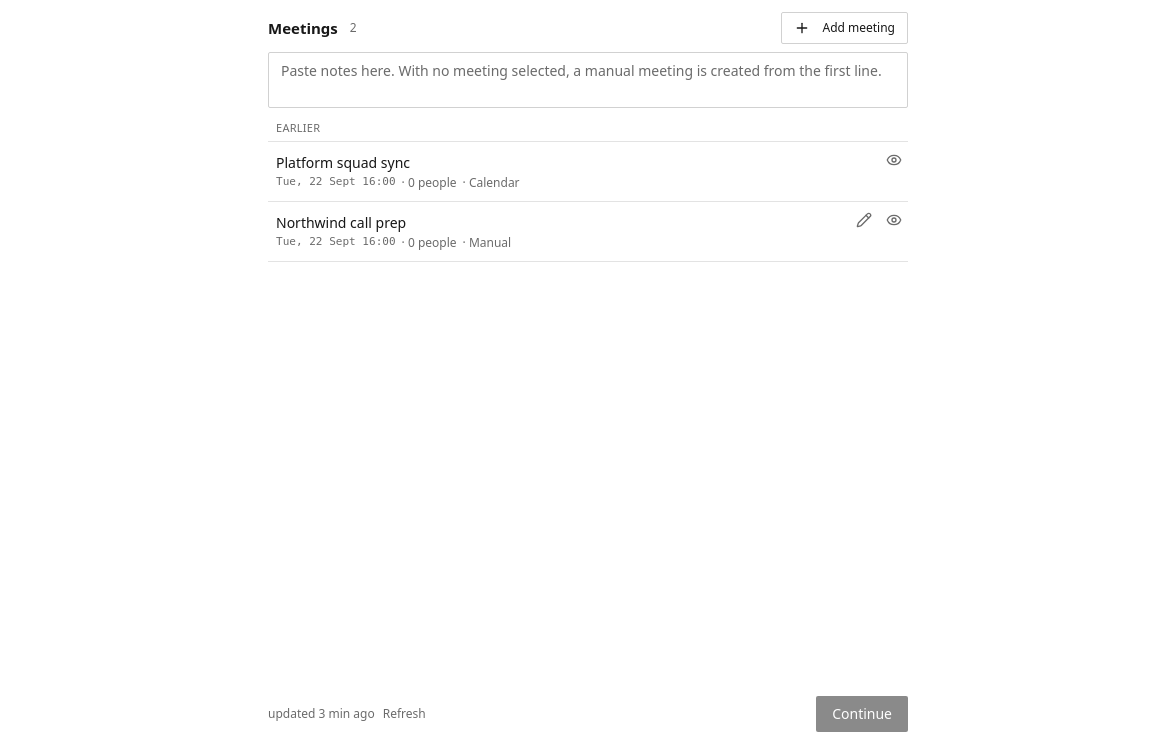
MeetingStep › moves the open detail to the card that was clicked
Click the button named "Show meeting details" in the row of "Platform squad sync" at (894, 160), box [880,146,908,174]
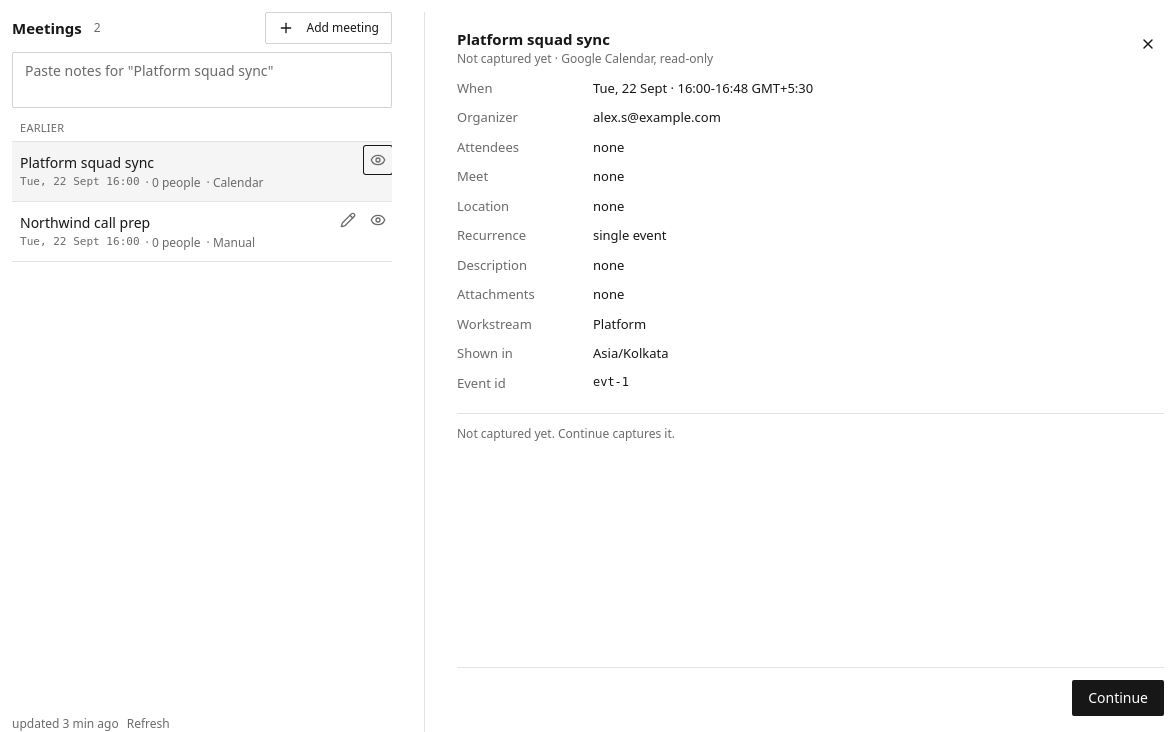
Now the heading "Platform squad sync" is shown, box [457,29,610,49]
Click the list item with test id "meeting-row" that starts with "Northwind call prep" at (202, 231), box [12,202,392,260]
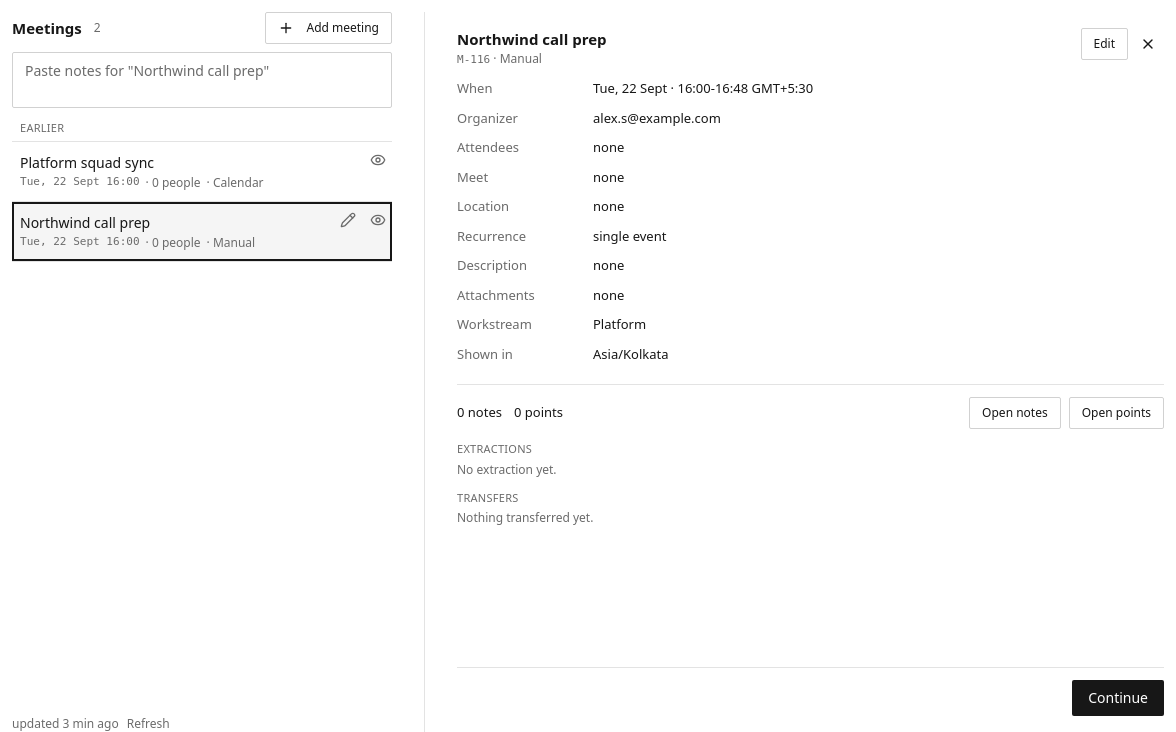
Now the heading "Northwind call prep" is shown, box [457,28,606,50]
